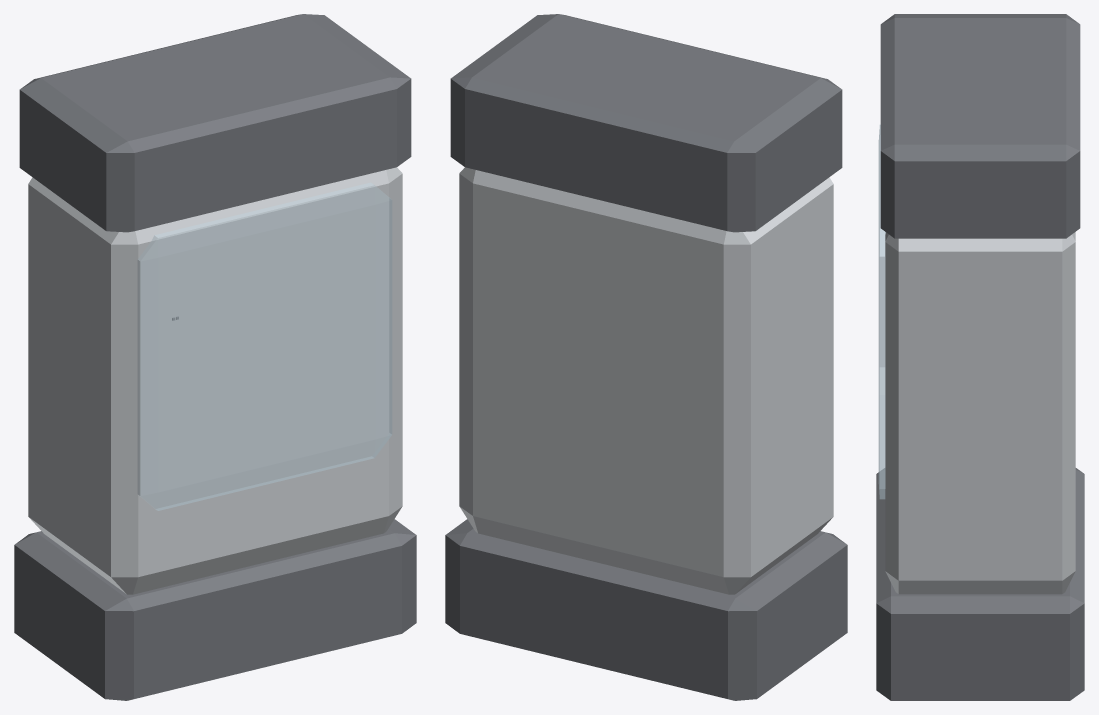
File: b10_outdoor_bookshop_cart.glb
3 renders of one model, left to right at view 1: azimuth 30°, elevation 25°; view 2: azimuth 150°, elevation 25°; view 3: azimuth 270°, elevation 25°, orthographic.
Visible parts, largest first — view 1: b10_outdoor_bookshop_cart; view 2: b10_outdoor_bookshop_cart; view 3: b10_outdoor_bookshop_cart.
Part boxes in pixels (x1,y1,x2,y2): b10_outdoor_bookshop_cart: [14, 14, 416, 700]; b10_outdoor_bookshop_cart: [445, 14, 847, 700]; b10_outdoor_bookshop_cart: [876, 14, 1084, 700].
Size of the model in its own units: 0.94 by 1.61 by 0.55.
